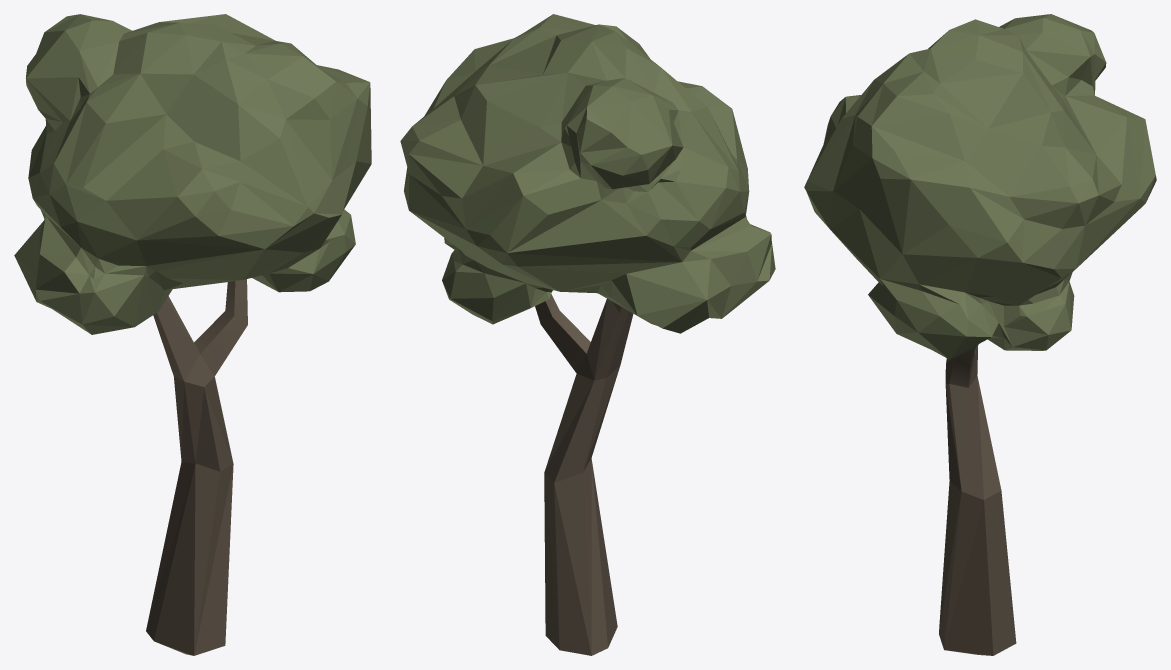
The model's file is tree.glb.
The picture shows the model from 3 angles, left to right: view 1: azimuth 30°, elevation 25°; view 2: azimuth 150°, elevation 25°; view 3: azimuth 270°, elevation 25°; orthographic projection. The views are drawn at different scales.
Visible parts, largest first — view 1: SM_Generic_Tree_01; view 2: SM_Generic_Tree_01; view 3: SM_Generic_Tree_01.
Boxes of the visible parts, x1,y1,x2,y2 form: SM_Generic_Tree_01: (14, 14, 371, 655); SM_Generic_Tree_01: (400, 14, 775, 655); SM_Generic_Tree_01: (804, 14, 1156, 655).
Bounding box in the file's own units: 1.81 × 3.3 × 1.7.
1 material, 1 textured.
